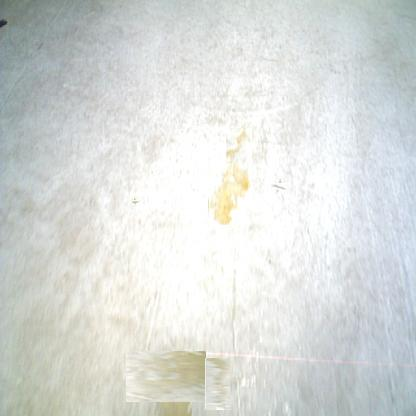liquid: (231, 326, 291, 416), (134, 343, 200, 409), (208, 164, 248, 225), (199, 365, 237, 404), (226, 128, 252, 164)
mark: (273, 180, 285, 192), (34, 40, 44, 50), (132, 197, 139, 205)
